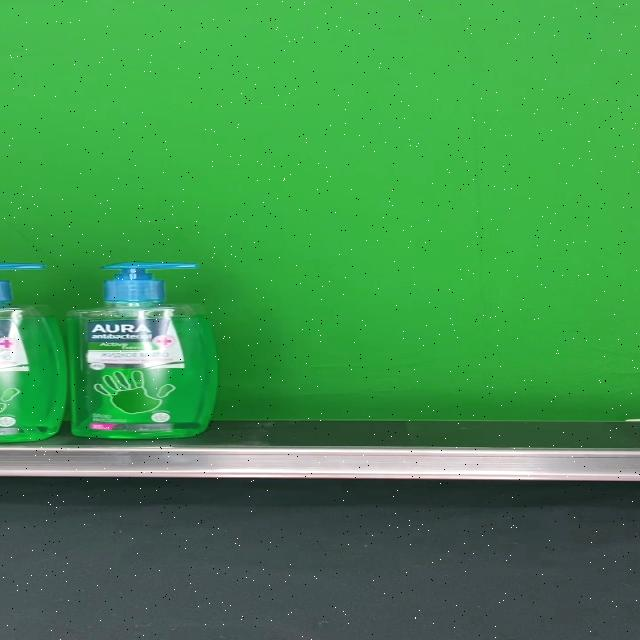Bottle: (66, 262, 216, 439)
Cap: (102, 262, 200, 302)
